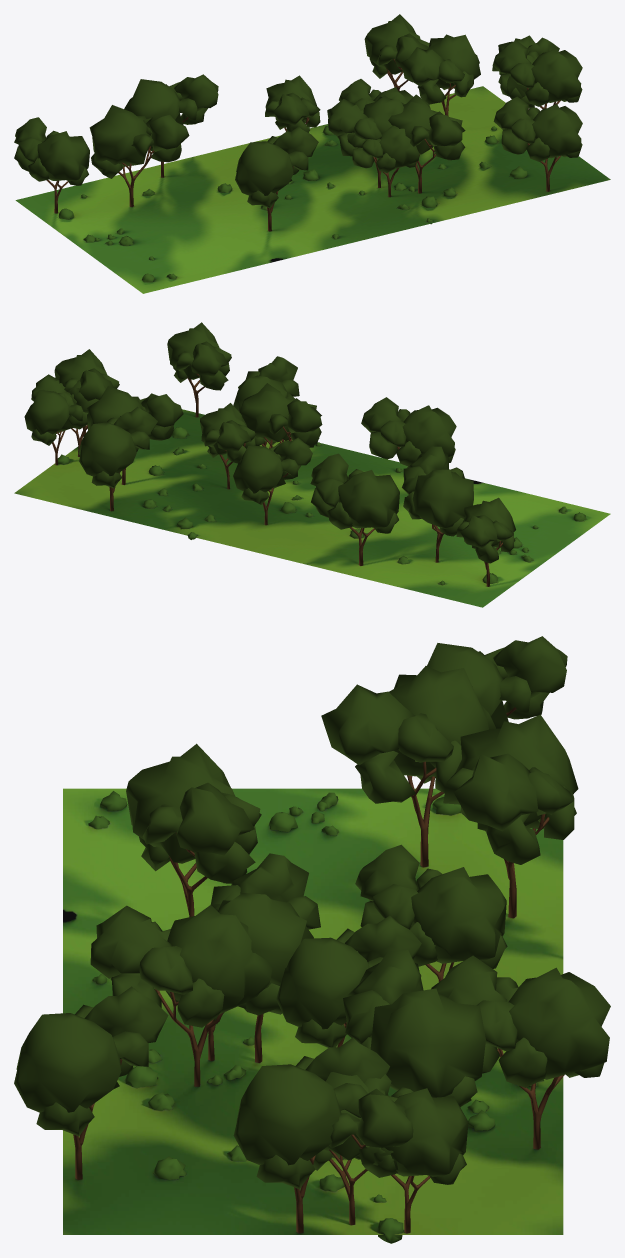
File: nature_right2.glb
3 renders of one model, top to bottom at view 1: azimuth 30°, elevation 25°; view 2: azimuth 150°, elevation 25°; view 3: azimuth 270°, elevation 25°, orthographic. The views are drawn at different scales.
Parts seen in each view (by area): view 1: ground.001, Scatter.008, Scatter.009; view 2: Scatter.008, ground.001, Scatter.009; view 3: Scatter.008, ground.001, Scatter.009.
Part boxes in pixels (bbox=[...]): ground.001: bbox=[15, 86, 610, 293]; Scatter.008: bbox=[14, 14, 582, 231]; Scatter.009: bbox=[58, 126, 527, 282]; Scatter.008: bbox=[24, 322, 515, 586]; ground.001: bbox=[14, 409, 610, 607]; Scatter.009: bbox=[57, 427, 586, 585]; Scatter.008: bbox=[14, 636, 610, 1233]; ground.001: bbox=[63, 788, 563, 1234]; Scatter.009: bbox=[88, 791, 543, 1243].
Bounding box in the file's own units: 61.59 × 12.4 × 32.22.
Materials: 4 (1 with a texture image).
